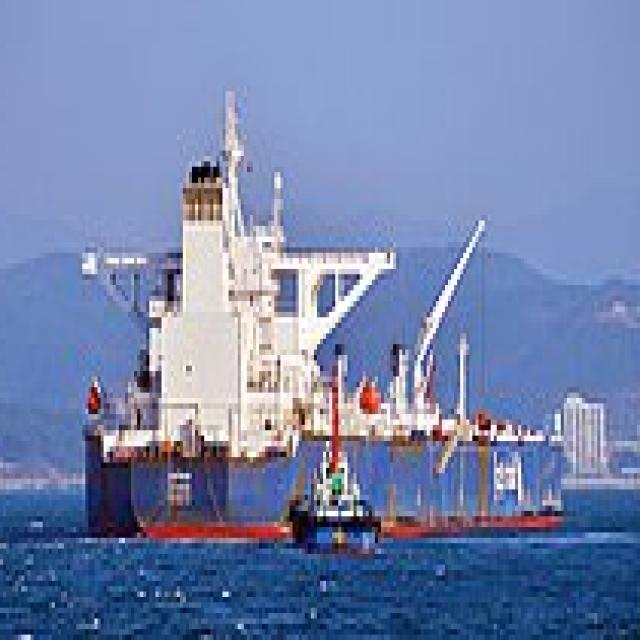Tanker: (79, 81, 573, 543)
